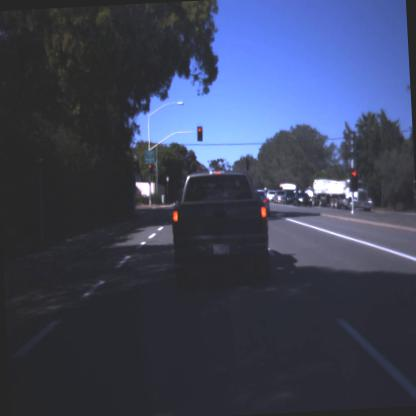trafficlight: (345, 165, 362, 194), (193, 121, 205, 146), (145, 161, 155, 182)
